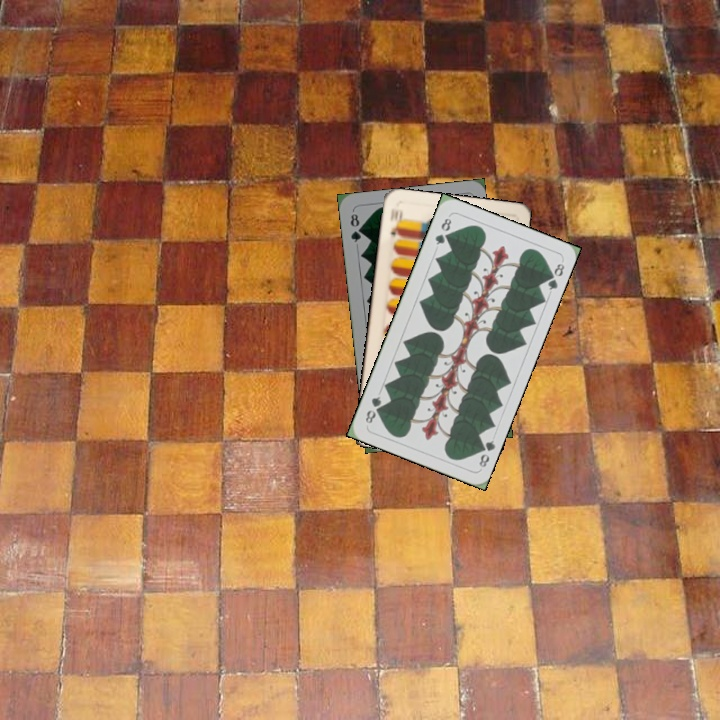E10: (387, 206, 405, 238)
G8: (473, 436, 497, 470), (431, 214, 454, 247), (346, 209, 364, 245)
